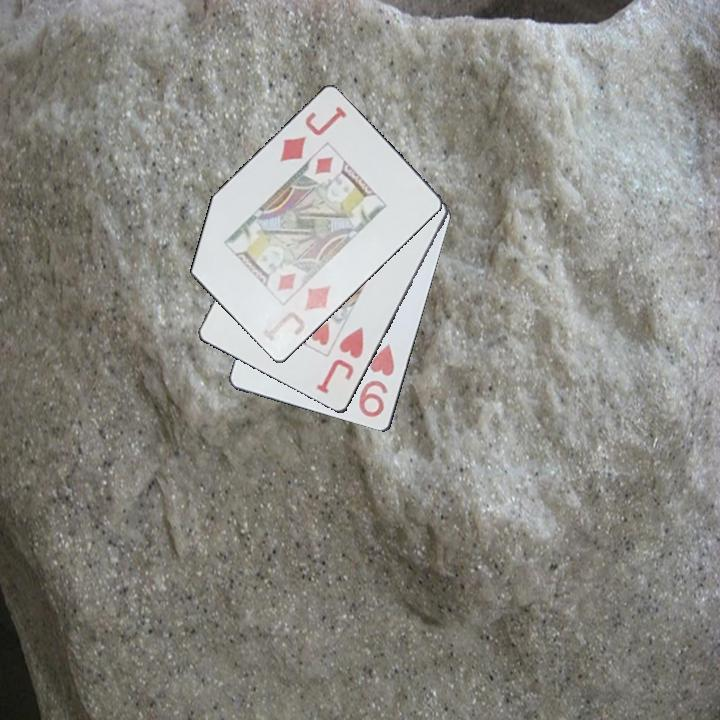9h: (355, 340, 398, 421)
Jd: (259, 282, 333, 348), (276, 103, 350, 166)
Jh: (313, 323, 367, 397)
